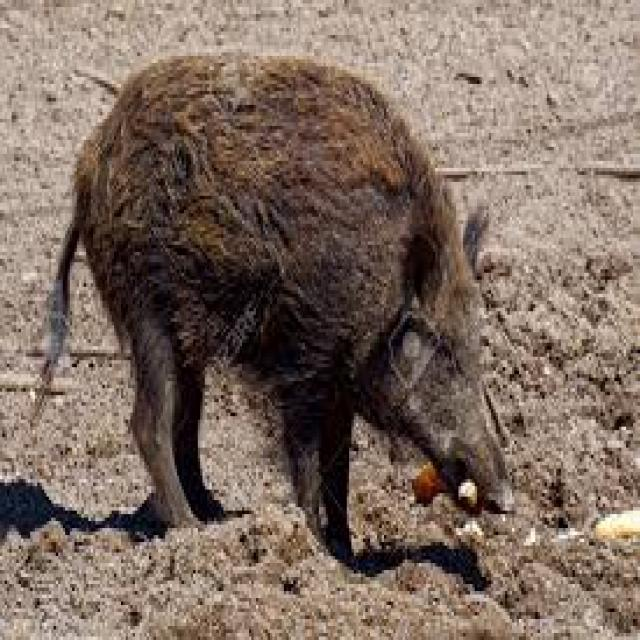boar: (31, 9, 542, 582)
